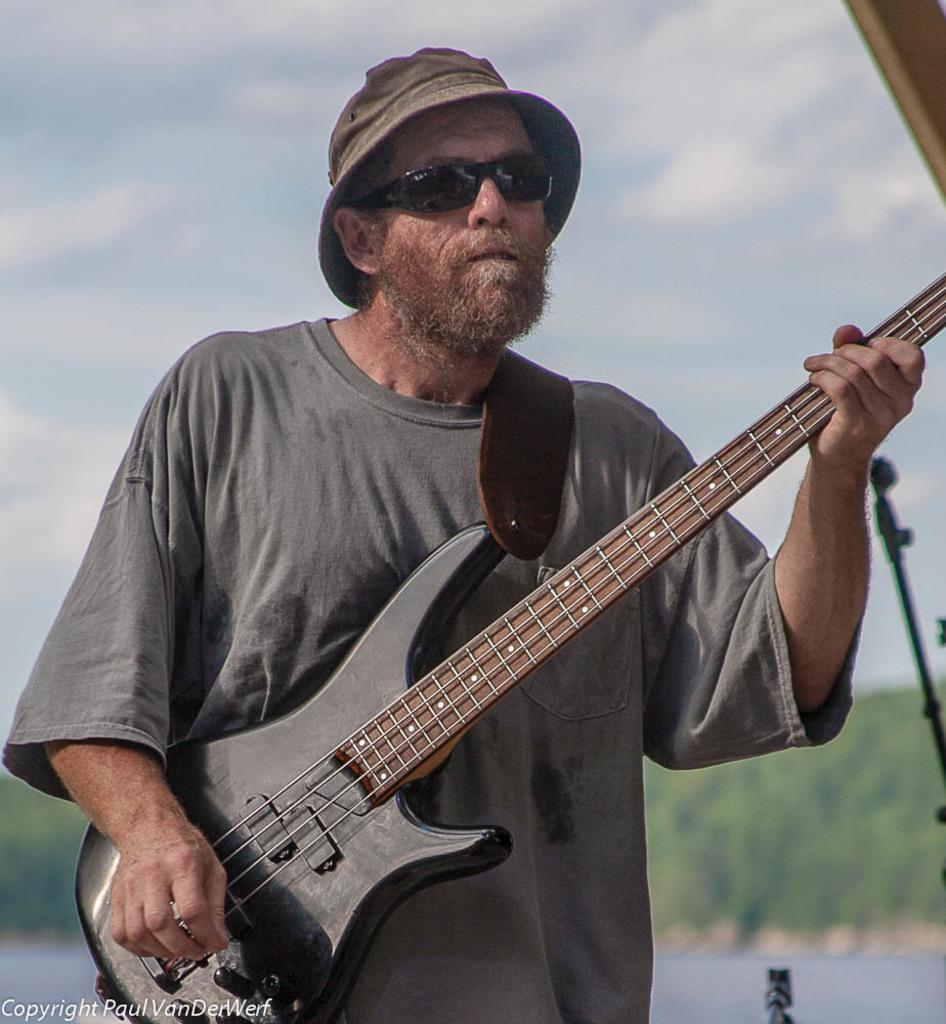Hat: (318, 43, 582, 305)
